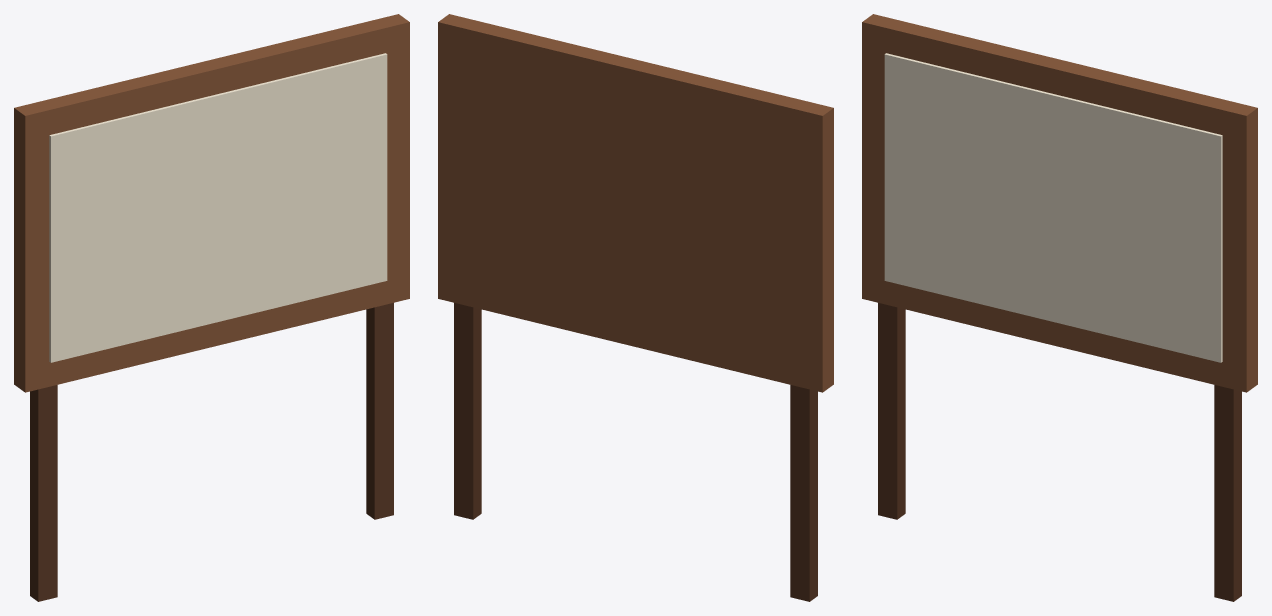
File: fair_board.glb
3 renders of one model, left to right at view 1: azimuth 30°, elevation 25°; view 2: azimuth 150°, elevation 25°; view 3: azimuth 330°, elevation 25°, orthographic.
Visible parts, largest first — view 1: Box2, Box1, Box3, Box4; view 2: Box1, Box3, Box4; view 3: Box2, Box1, Box4, Box3.
Boxes of the visible parts, x1=… form: Box2: x1=49, y1=53, x2=387, y2=362; Box1: x1=14, y1=14, x2=409, y2=392; Box3: x1=30, y1=385, x2=57, y2=601; Box4: x1=366, y1=303, x2=393, y2=519; Box1: x1=438, y1=14, x2=833, y2=392; Box3: x1=790, y1=385, x2=817, y2=601; Box4: x1=454, y1=303, x2=481, y2=519; Box2: x1=884, y1=53, x2=1222, y2=362; Box1: x1=862, y1=14, x2=1257, y2=392; Box4: x1=1214, y1=385, x2=1241, y2=601; Box3: x1=878, y1=303, x2=905, y2=519.
Bounding box in the file's own units: 1.6 × 1.95 × 0.092.
